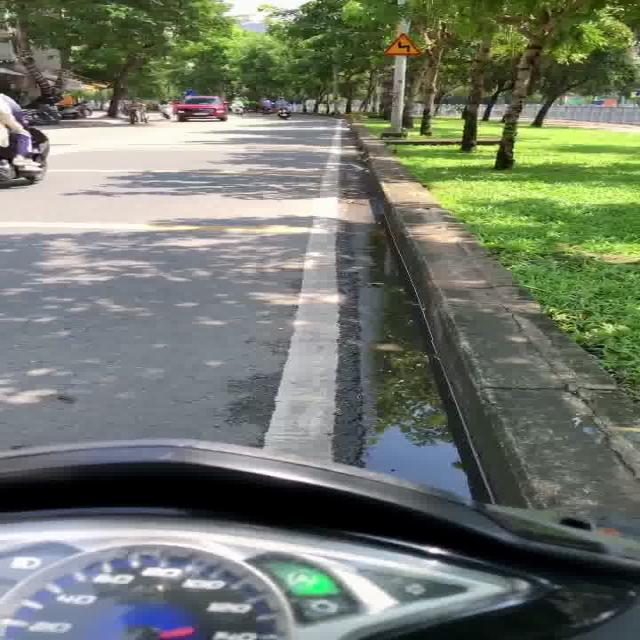Bien bao nhieu cho ngoat nguy hiem lien tiep: (376, 31, 425, 56)
